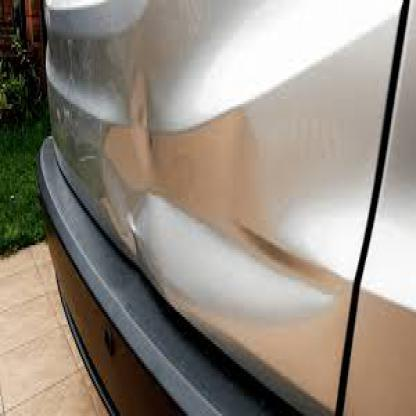dent: (126, 181, 338, 327), (121, 67, 168, 151)
